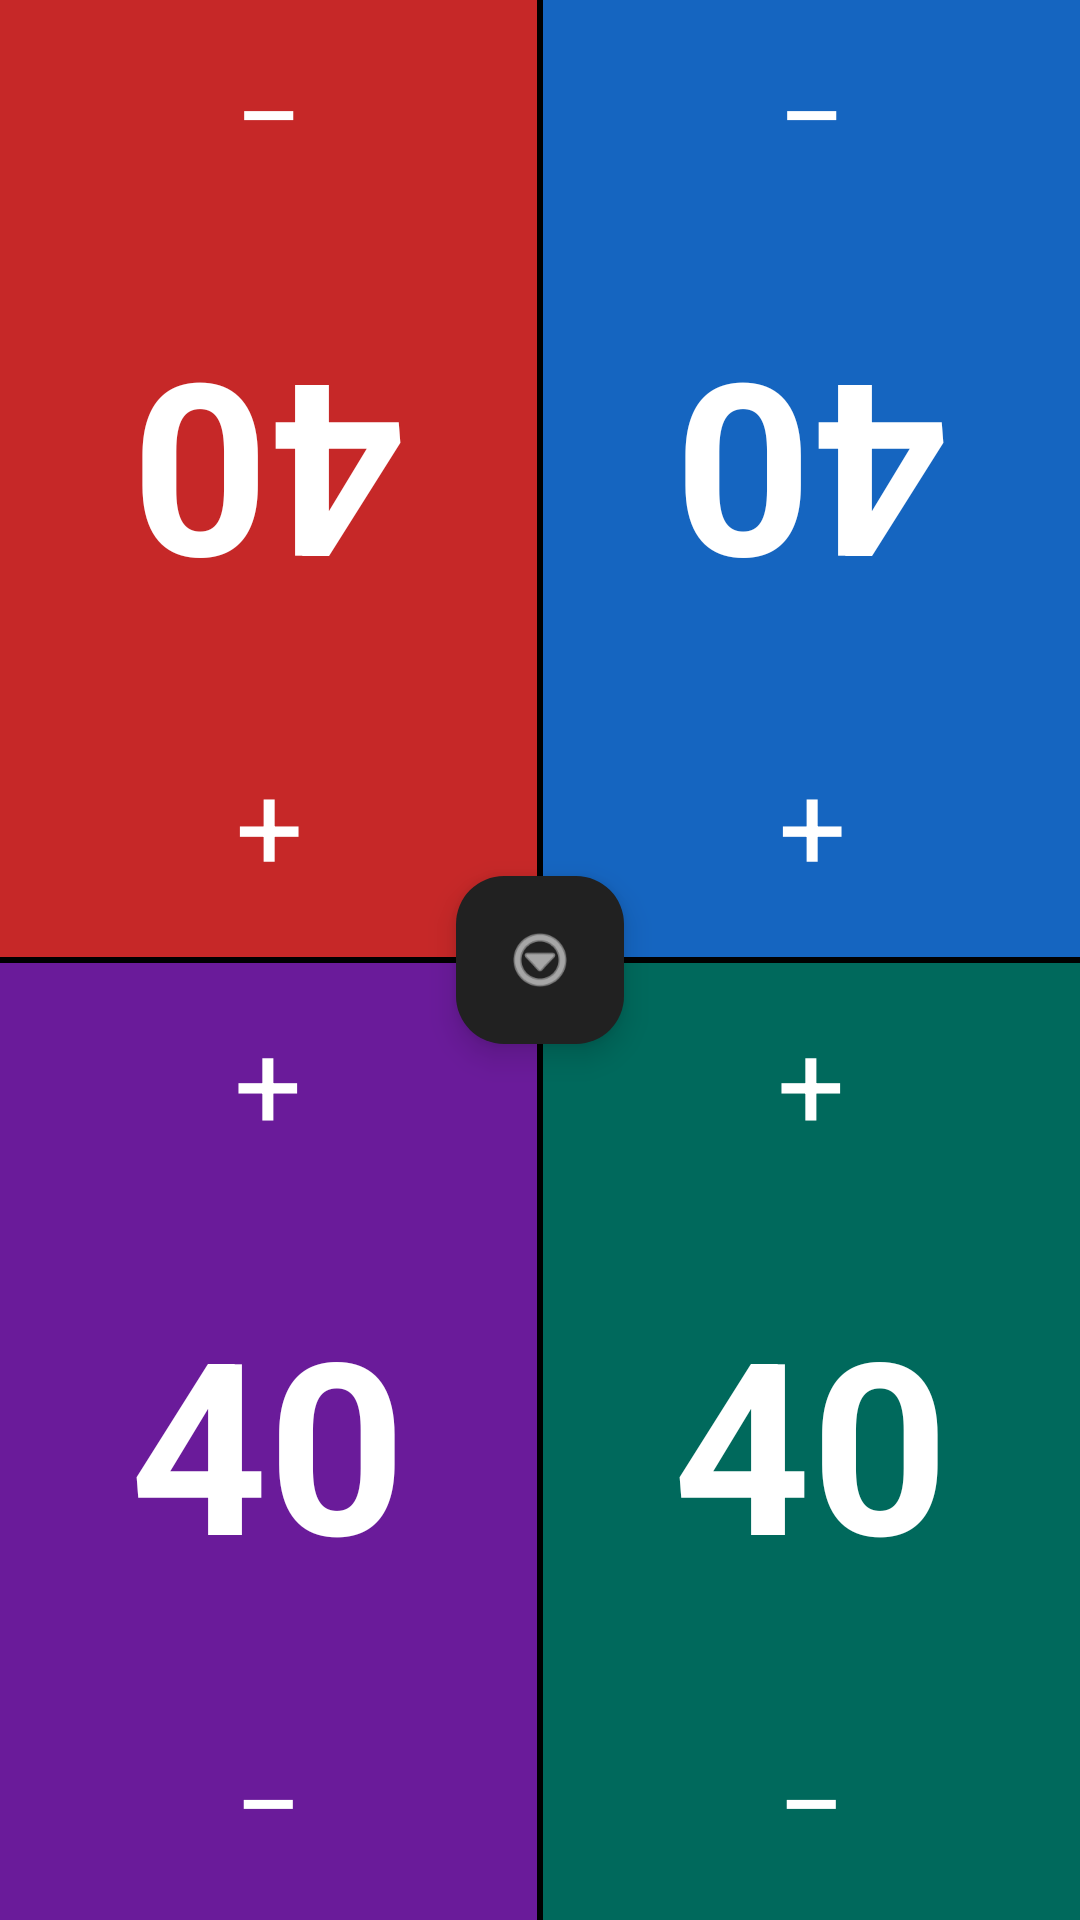

Where to tap for icons on this 1080×1920 app screen, as (x,y):
more: (540,960)
